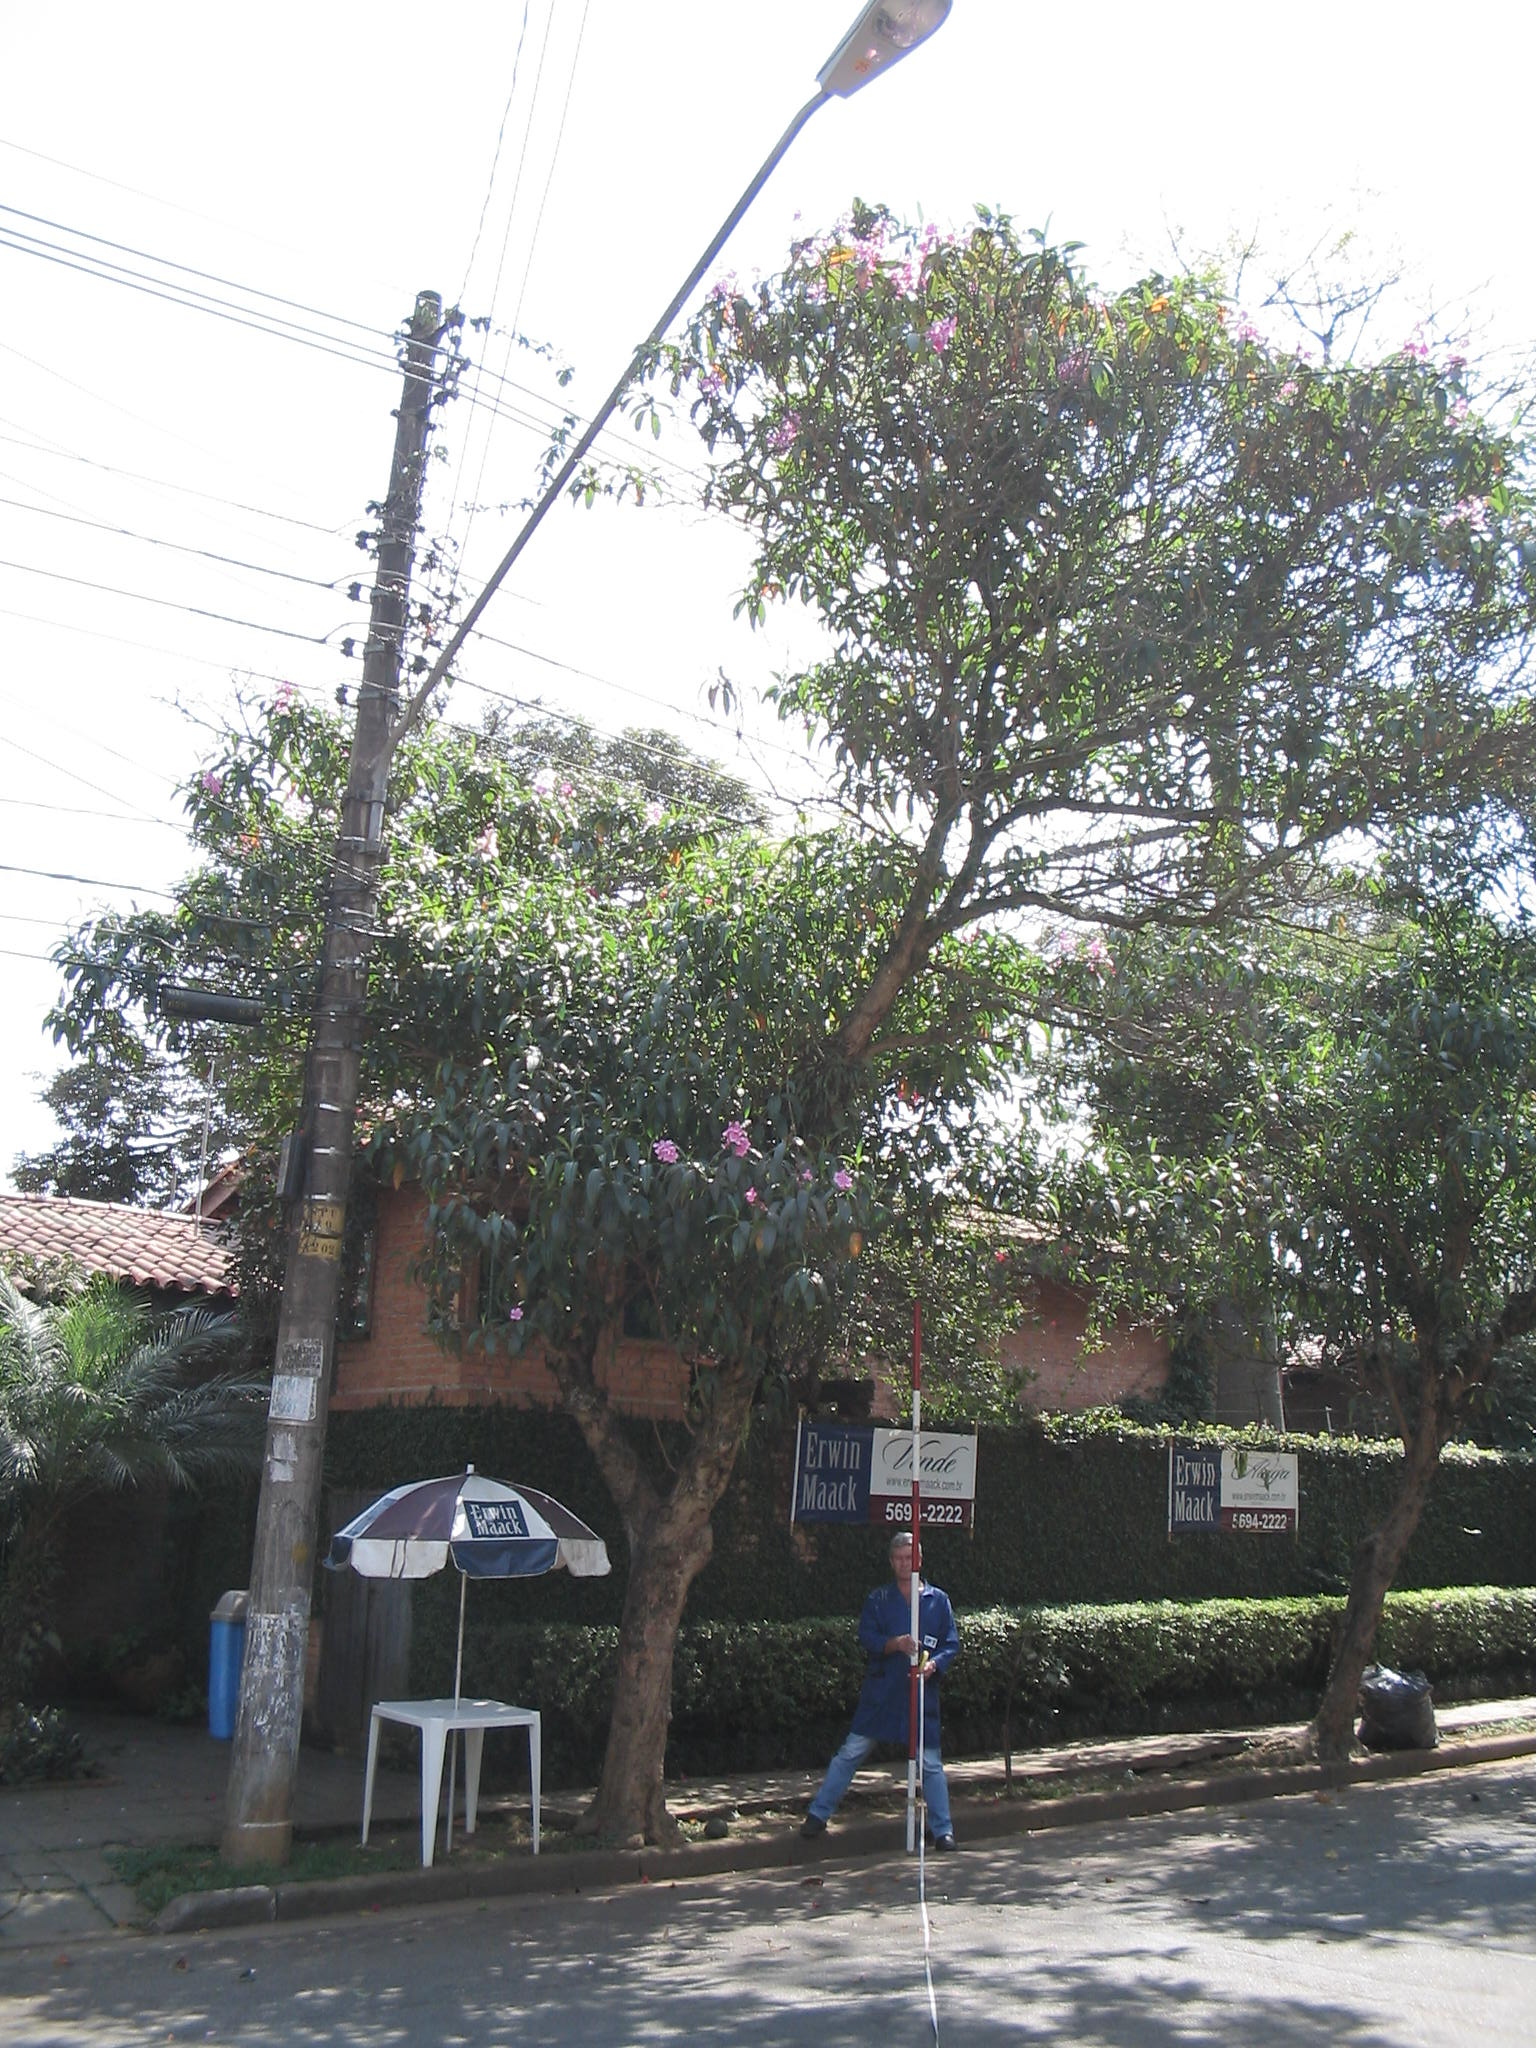crown: (361, 197, 1521, 1390), (1199, 913, 1521, 1387)
stem: (1300, 1453, 1459, 1750), (578, 1540, 720, 1846)
stick: (892, 1297, 936, 1864)
tree: (353, 195, 1526, 1853), (1191, 913, 1534, 1761)
